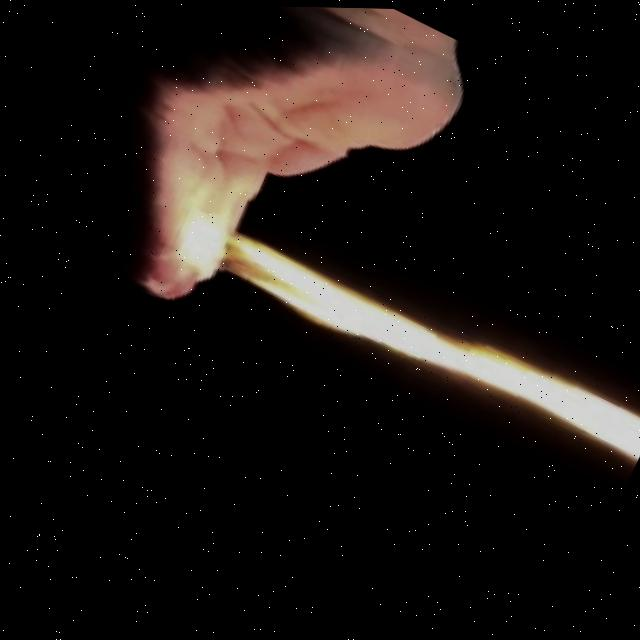Fire: (143, 167, 640, 489)
